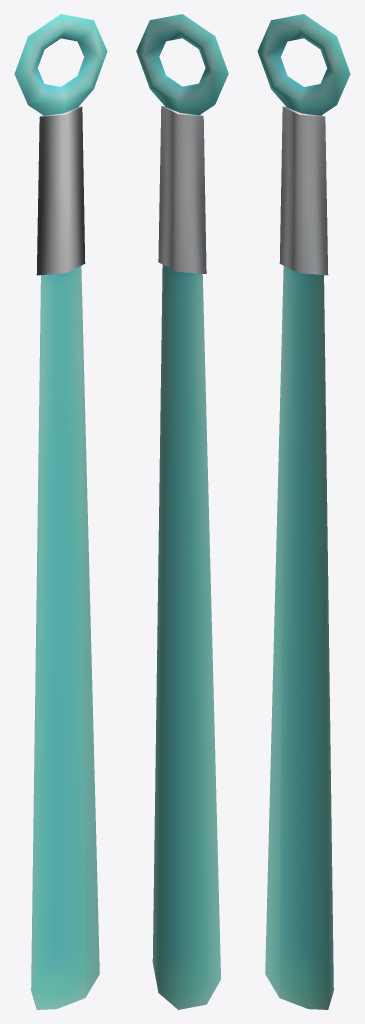
File: set_shoehorn.fbx
3 renders of one model, left to right at view 1: azimuth 30°, elevation 25°; view 2: azimuth 150°, elevation 25°; view 3: azimuth 330°, elevation 25°, orthographic.
Visible parts, largest first — view 1: set_shoehorn; view 2: set_shoehorn; view 3: set_shoehorn.
Boxes of the visible parts, x1,y1,x2,y2 form: set_shoehorn: (14,14,107,1009); set_shoehorn: (136,14,228,1009); set_shoehorn: (257,14,350,1009).
Bounding box in the file's own units: 4.86 × 49.84 × 0.92.
